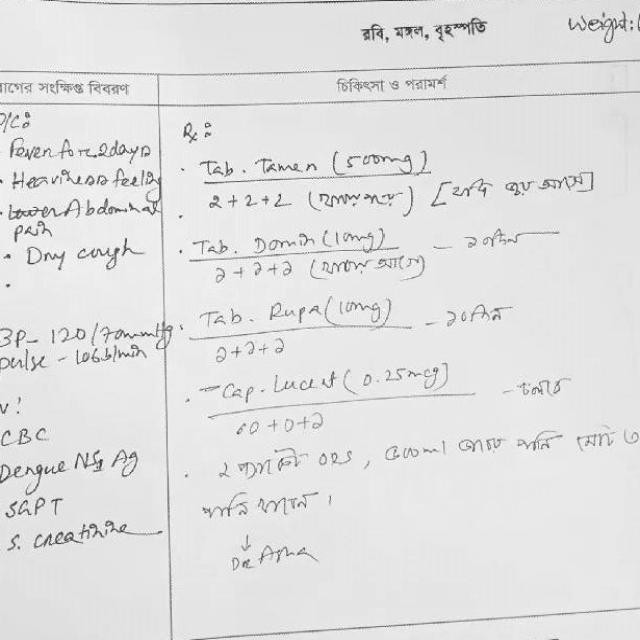medicine: (263, 364, 340, 399), (242, 150, 328, 179), (243, 227, 320, 254), (257, 294, 325, 324)
